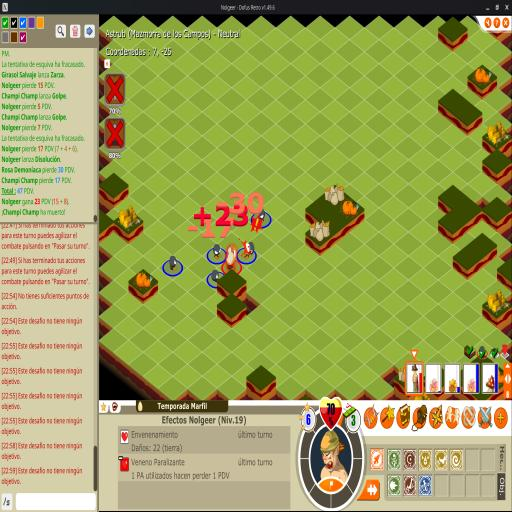Enemigos: (241, 240, 255, 260), (254, 206, 266, 226), (212, 243, 222, 260), (169, 254, 178, 271), (210, 269, 220, 283)
Personaje: (226, 243, 238, 271)
